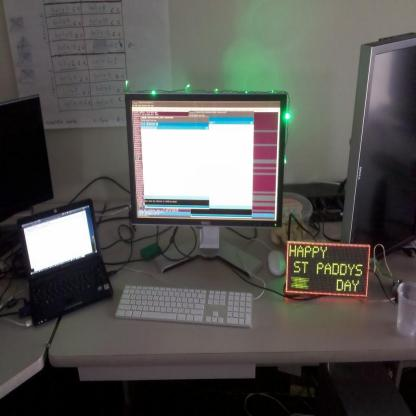board: (18, 190, 107, 330)
